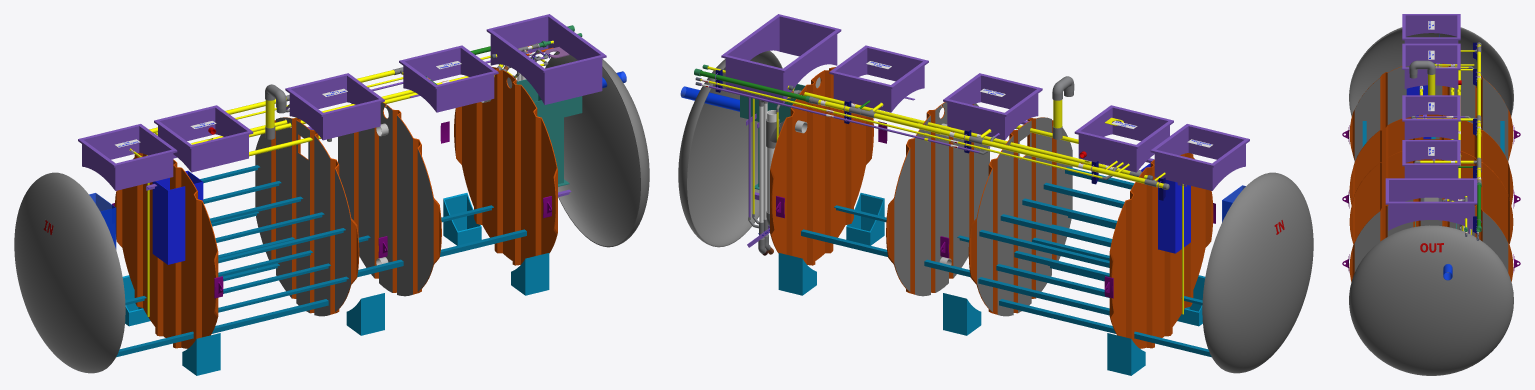
The model's file is CHI TIET GIA CONG BON FRP.glb.
The picture shows the model from 3 angles, left to right: view 1: azimuth 30°, elevation 25°; view 2: azimuth 150°, elevation 25°; view 3: azimuth 270°, elevation 25°; orthographic projection. The views are drawn at different scales.
Visible parts, largest first — view 1: Solid2 (×21), Solid1 (×5), Solid3 (×2), Solid7, Solid4, Solid6; view 2: Solid2 (×31), Solid1 (×5), Solid3, Solid6, Solid5, Solid7; view 3: Solid2 (×18), Solid1 (×5).
Part boxes in pixels (<box>): Solid2 (×21): <box>14,14,649,373</box>; Solid1 (×5): <box>82,16,602,190</box>; Solid3 (×2): <box>89,193,481,249</box>; Solid7: <box>182,333,220,375</box>; Solid4: <box>346,293,384,335</box>; Solid6: <box>122,275,150,326</box>; Solid2 (×31): <box>678,14,1313,373</box>; Solid1 (×5): <box>725,16,1245,190</box>; Solid3: <box>778,253,816,295</box>; Solid6: <box>1107,333,1145,375</box>; Solid5: <box>943,293,981,335</box>; Solid7: <box>1177,275,1205,326</box>; Solid2 (×18): <box>1349,14,1513,375</box>; Solid1 (×5): <box>1388,15,1474,230</box>.
Bounding box in the file's own units: 6.65 × 2.52 × 2.16.
